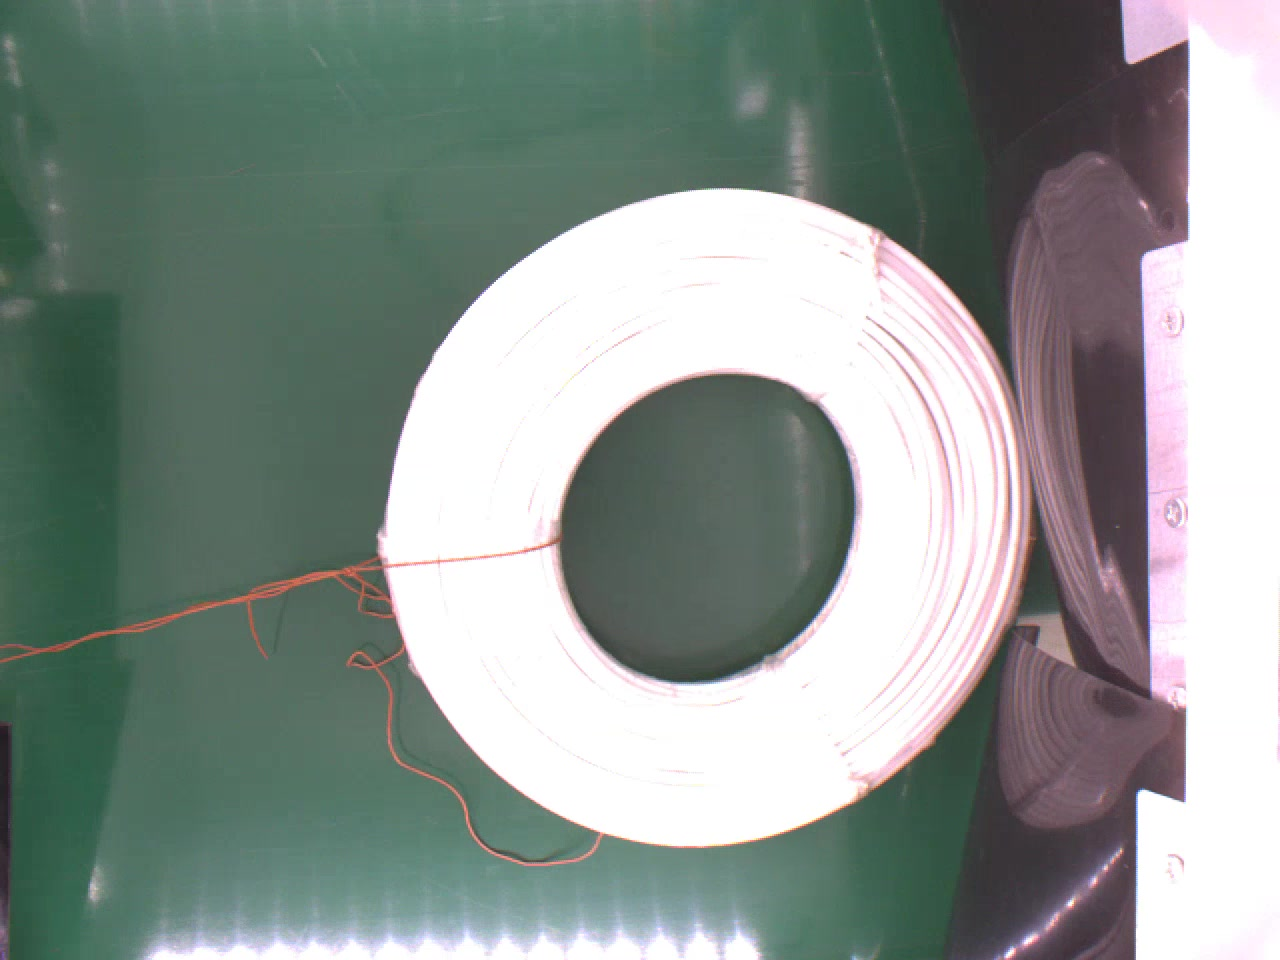white: (376, 184, 1038, 849)
